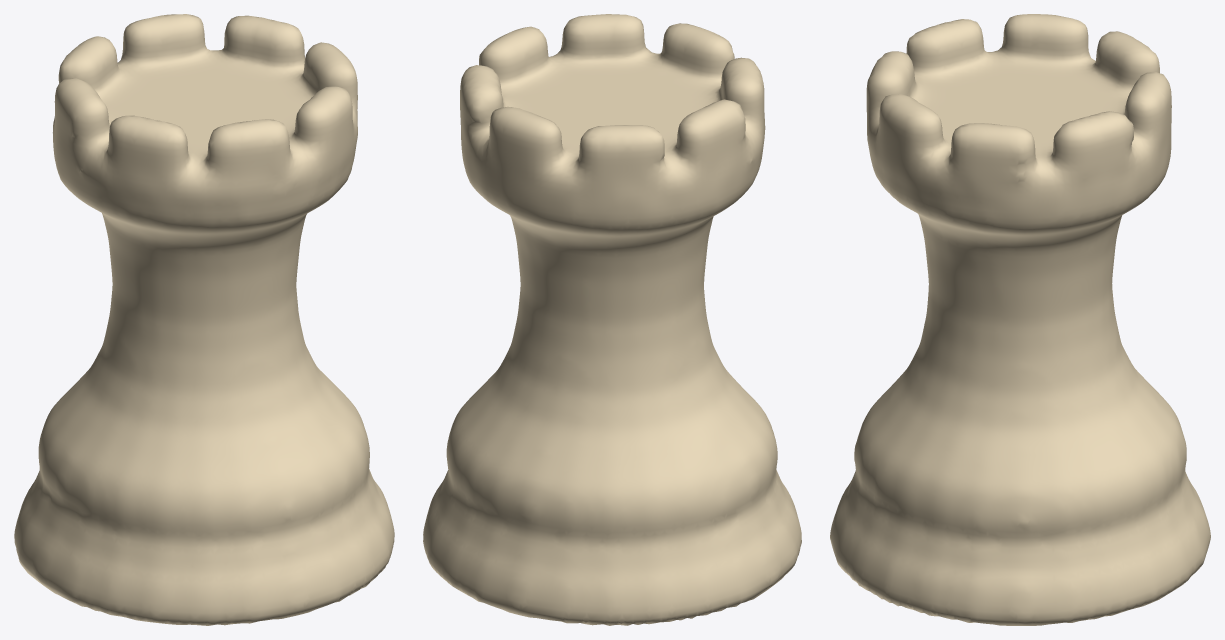
The model's file is KFB_Chess_rook_light.r1.glb.
The picture shows the model from 3 angles, left to right: view 1: azimuth 30°, elevation 25°; view 2: azimuth 150°, elevation 25°; view 3: azimuth 270°, elevation 25°; orthographic projection.
Visible parts, largest first — view 1: KFB_Chess_rook_light; view 2: KFB_Chess_rook_light; view 3: KFB_Chess_rook_light.
Part boxes in pixels (x1,y1,x2,y2): KFB_Chess_rook_light: [14, 14, 394, 625]; KFB_Chess_rook_light: [423, 14, 801, 625]; KFB_Chess_rook_light: [830, 14, 1210, 625].
Bounding box in the file's own units: 2.49 × 3.43 × 2.49.
